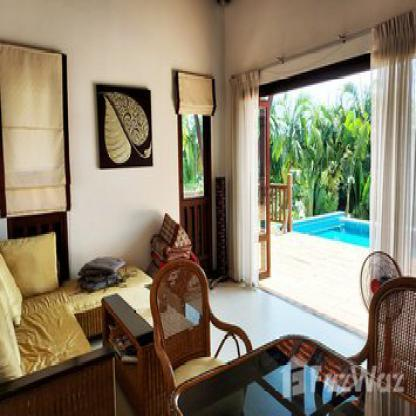chair: (147, 255, 257, 416), (357, 279, 416, 398)
door: (179, 79, 212, 275), (250, 103, 272, 278)
fan: (347, 250, 408, 336)
sofa: (0, 231, 154, 416)
table: (172, 330, 416, 416), (102, 291, 157, 412)
